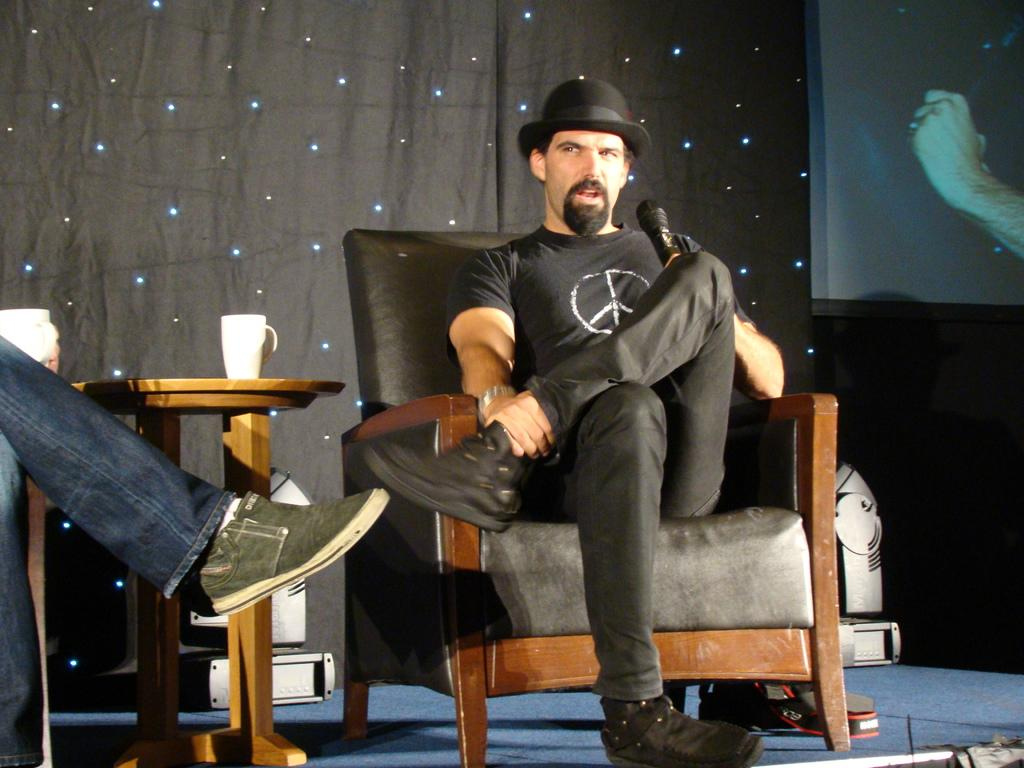Hat: (514, 73, 650, 164)
